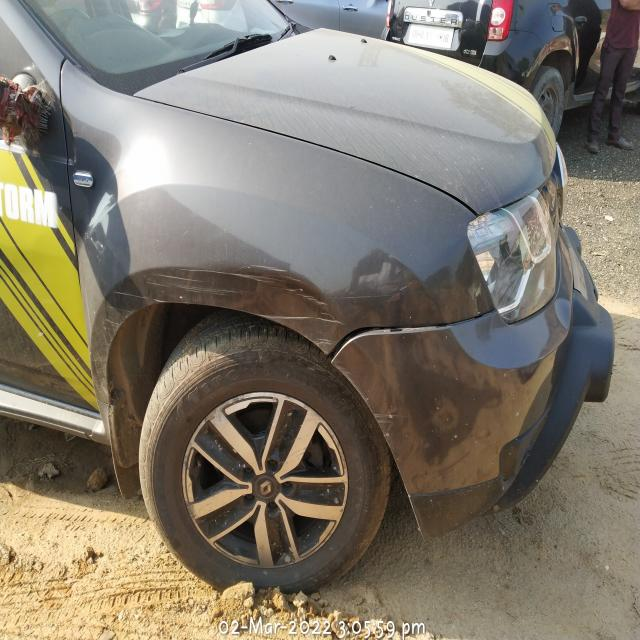damage: (110, 248, 327, 346), (332, 296, 475, 378), (361, 394, 408, 445)
